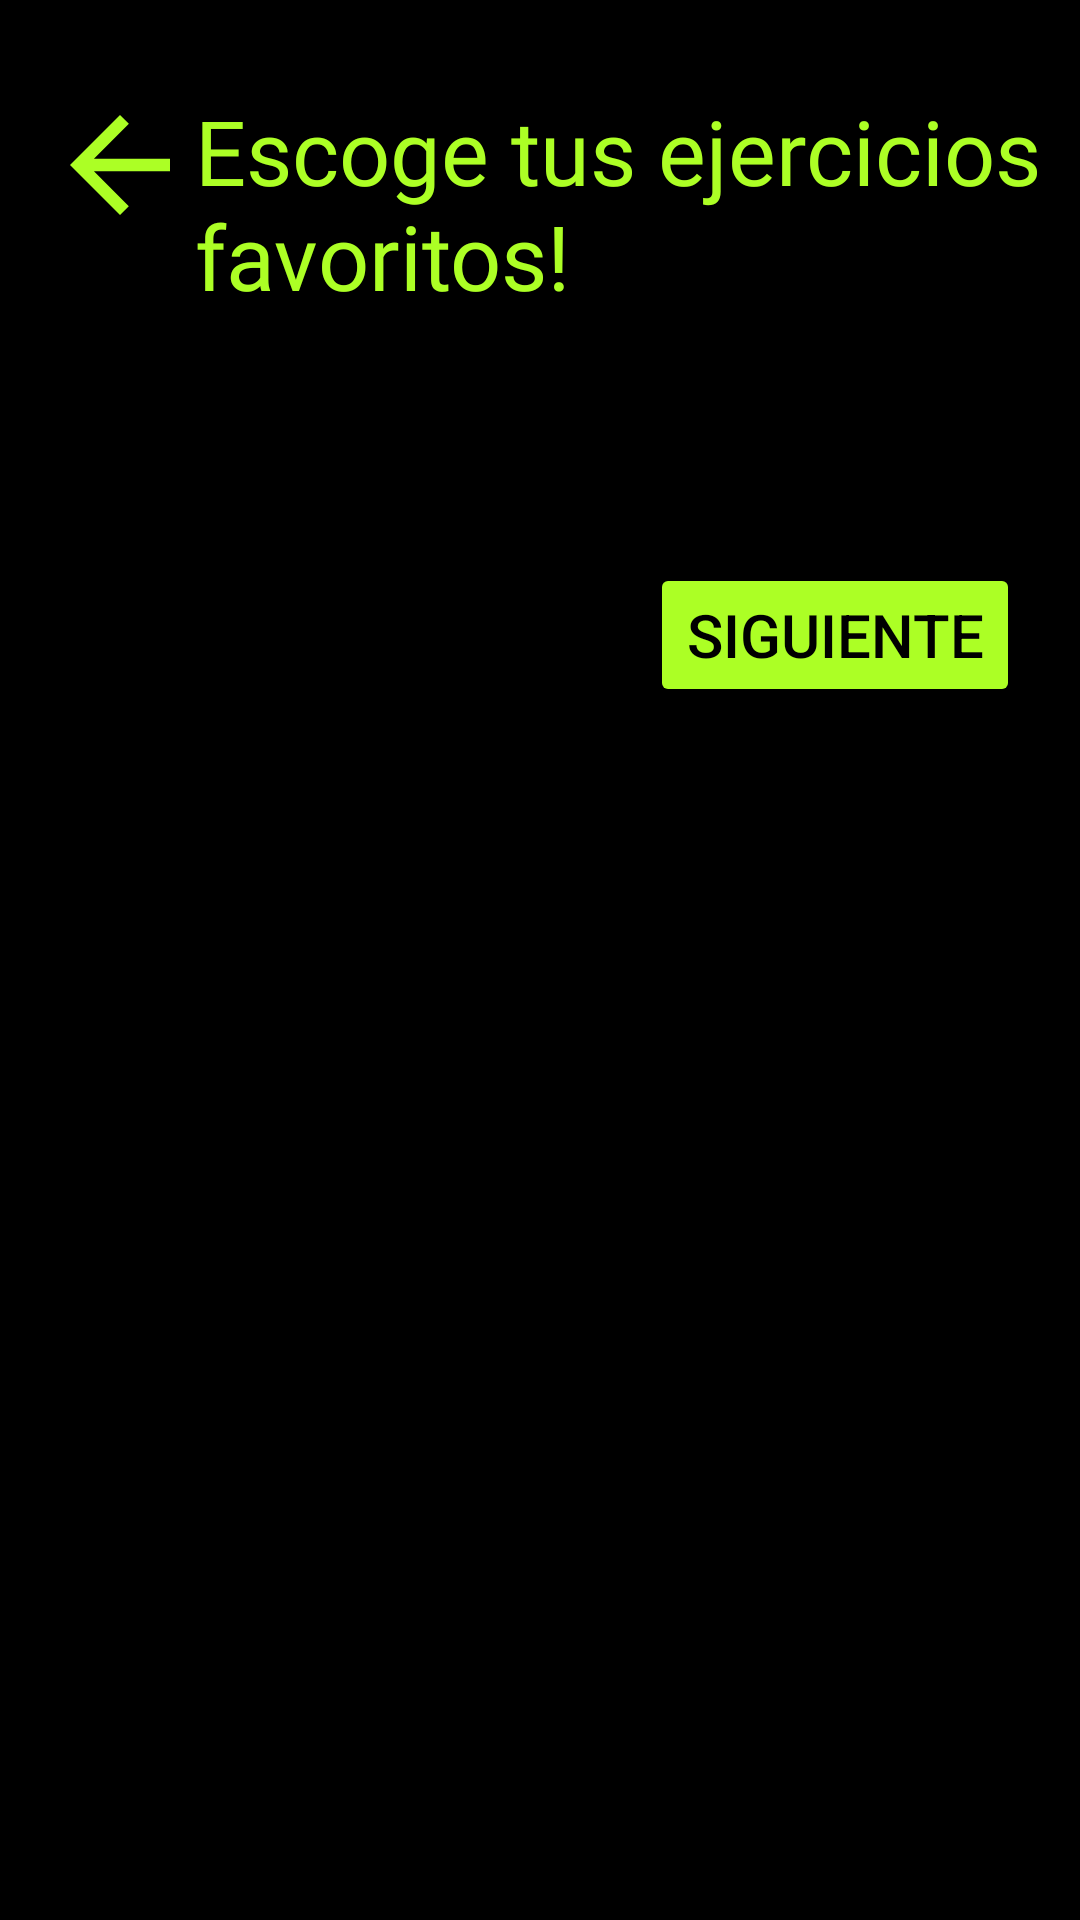

Where icons sit on this 1080x1920 app screen, as detection(x1, y1, x2, y2):
flecha atras: detection(70, 115, 170, 215)
